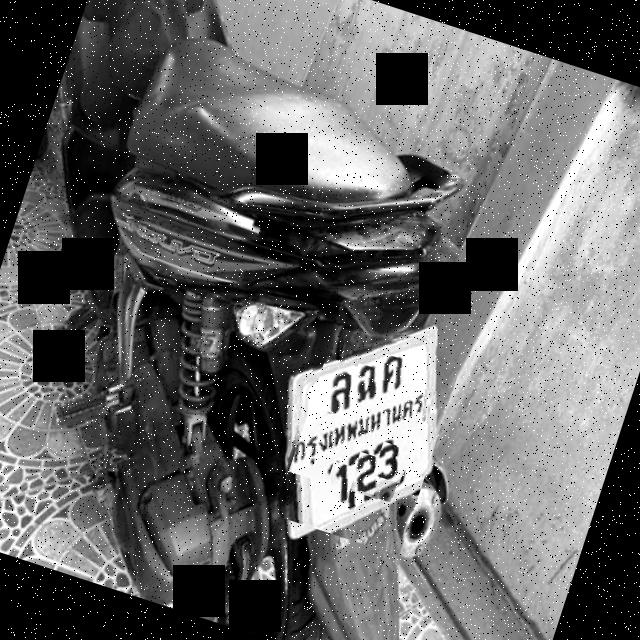letters: (318, 370, 362, 420), (372, 442, 412, 484), (348, 363, 387, 406), (348, 452, 385, 496), (322, 461, 357, 505), (376, 354, 412, 395)
license-plate: (307, 342, 431, 529)
province: (293, 389, 427, 473)
